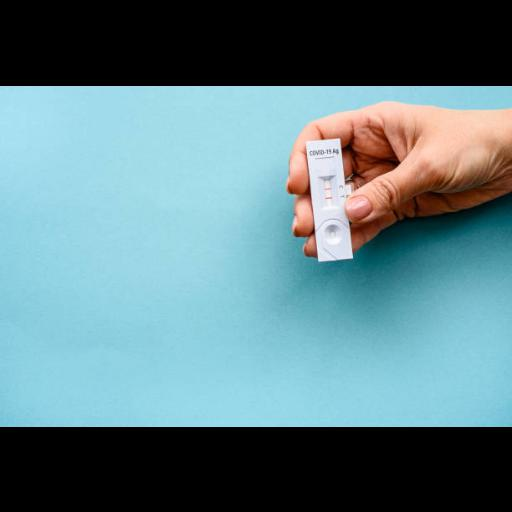Pos: (306, 137, 354, 262)
